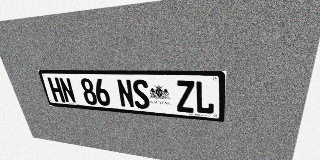6: (92, 78, 111, 106)
8: (79, 78, 98, 105)
H: (47, 77, 65, 103)
L: (195, 81, 215, 115)
N: (116, 79, 135, 108), (58, 78, 77, 103)
S: (131, 79, 150, 109)
Z: (175, 80, 195, 113)
